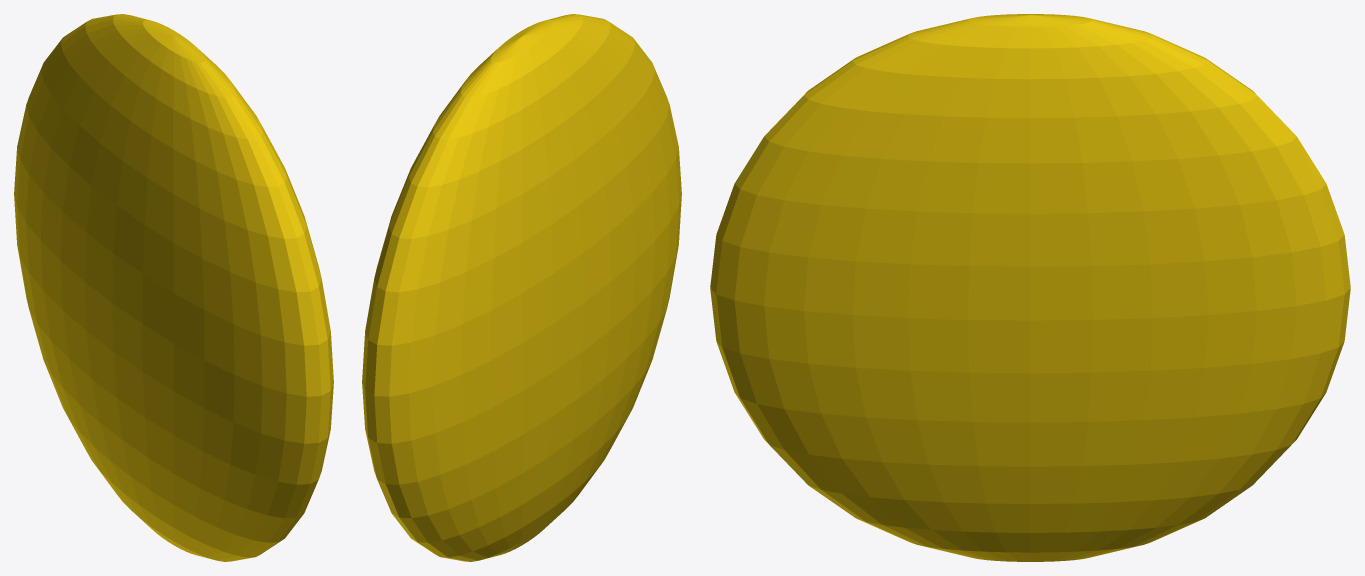
The model's file is coin.fbx.
3 views of the same model, side by side, from view 1: azimuth 30°, elevation 25°; view 2: azimuth 150°, elevation 25°; view 3: azimuth 270°, elevation 25° (orthographic). The views are drawn at different scales.
Parts seen in each view (by area): view 1: Sphere; view 2: Sphere; view 3: Sphere.
Part boxes in pixels (left/top/right/bottom): Sphere: left=14, top=14, right=333, bottom=561; Sphere: left=362, top=14, right=681, bottom=561; Sphere: left=710, top=14, right=1350, bottom=561.
Bounding box in the file's own units: 48.22 × 188 × 200.
